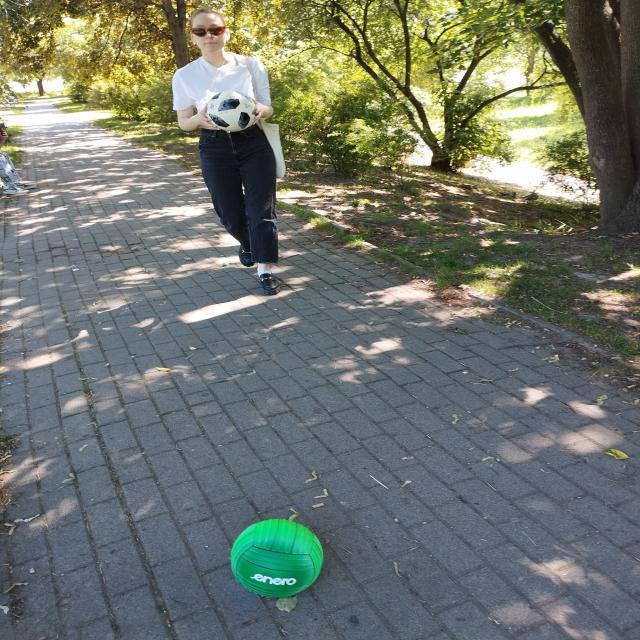nozna: (207, 90, 256, 132)
zielona: (230, 518, 324, 598)
